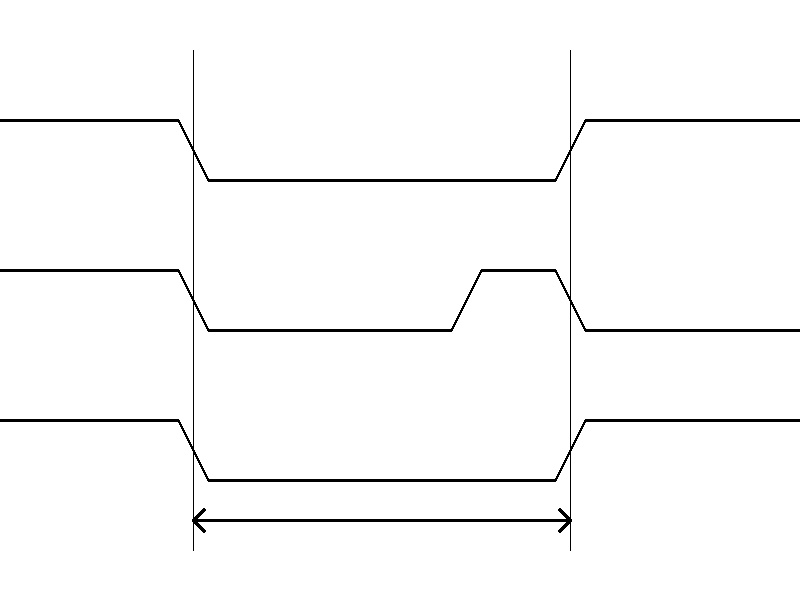double_arrow: (193, 505, 570, 535)
